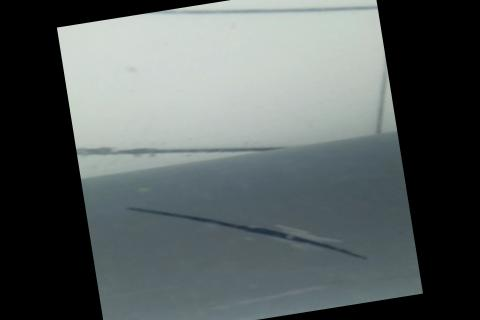keretakan: (126, 167, 374, 297)
